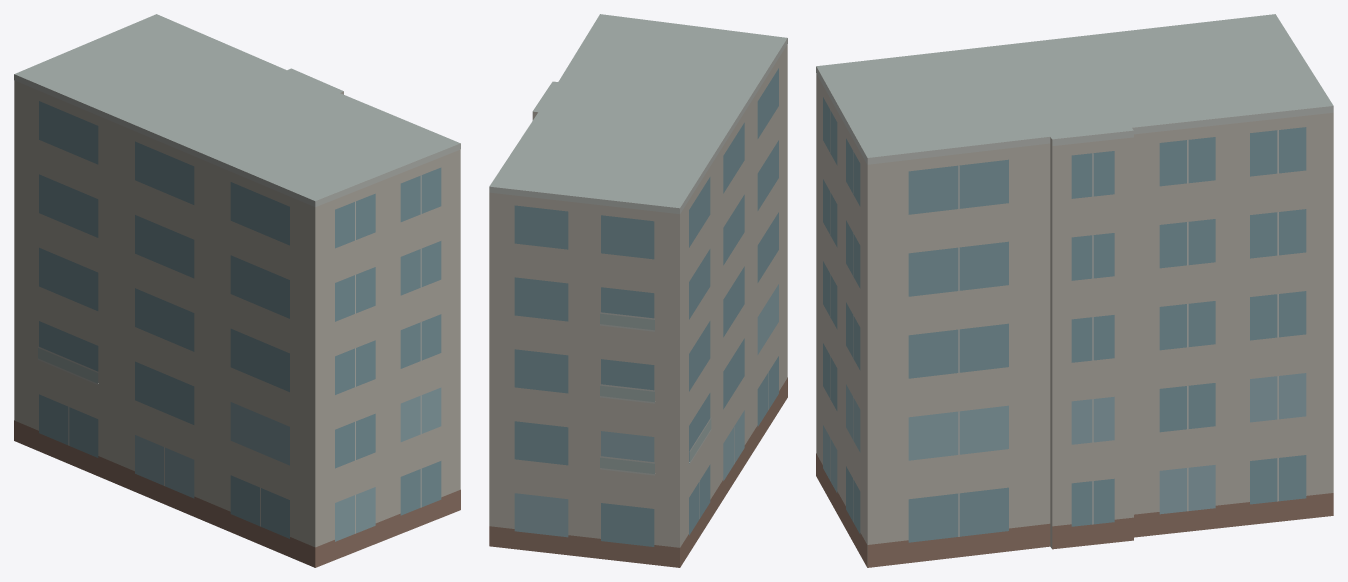
Rendered from survey-upis-32646035.glb.
3 views of the same model, side by side, from view 1: azimuth 30°, elevation 25°; view 2: azimuth 150°, elevation 25°; view 3: azimuth 270°, elevation 25° (orthographic). The views are drawn at different scales.
Parts seen in each view (by area): view 1: survey-upis-32646035.tmp; view 2: survey-upis-32646035.tmp; view 3: survey-upis-32646035.tmp.
Boxes of the visible parts, bbox=[...] form: survey-upis-32646035.tmp: bbox=[14, 14, 460, 567]; survey-upis-32646035.tmp: bbox=[489, 14, 787, 567]; survey-upis-32646035.tmp: bbox=[816, 14, 1333, 567].
Bounding box in the file's own units: 11.09 × 14.7 × 16.83.
